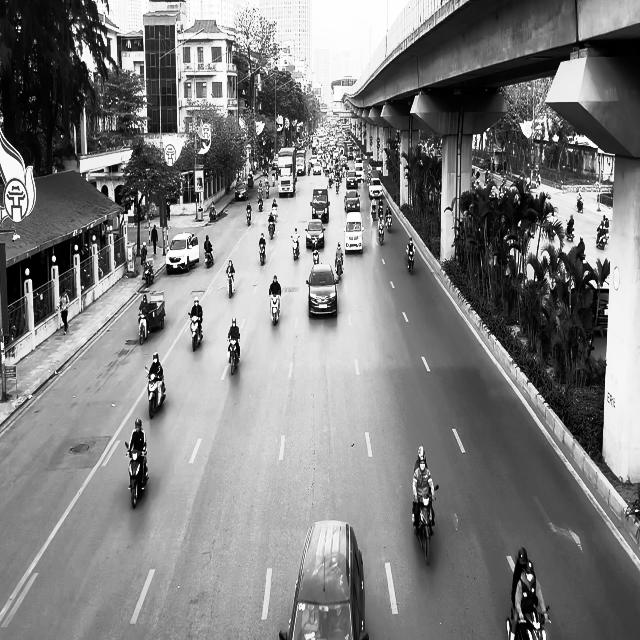bus: (277, 146, 297, 198)
car: (279, 519, 369, 640), (306, 263, 338, 318), (166, 232, 200, 274), (344, 212, 364, 254), (305, 219, 325, 249), (344, 190, 360, 212), (368, 177, 382, 199), (234, 182, 248, 200)
motorbike: (412, 486, 437, 565), (124, 441, 149, 508), (505, 606, 551, 640), (144, 366, 166, 419), (188, 314, 203, 352), (227, 335, 240, 374), (268, 288, 280, 325), (138, 309, 148, 345), (142, 259, 154, 285), (596, 226, 607, 249), (406, 246, 415, 274), (335, 254, 344, 282), (226, 271, 235, 298), (291, 236, 300, 260), (204, 247, 213, 268), (258, 242, 266, 265), (312, 239, 319, 264), (566, 222, 574, 242), (268, 217, 275, 239), (385, 212, 392, 232), (378, 222, 384, 245), (371, 203, 377, 220), (246, 209, 251, 226)
